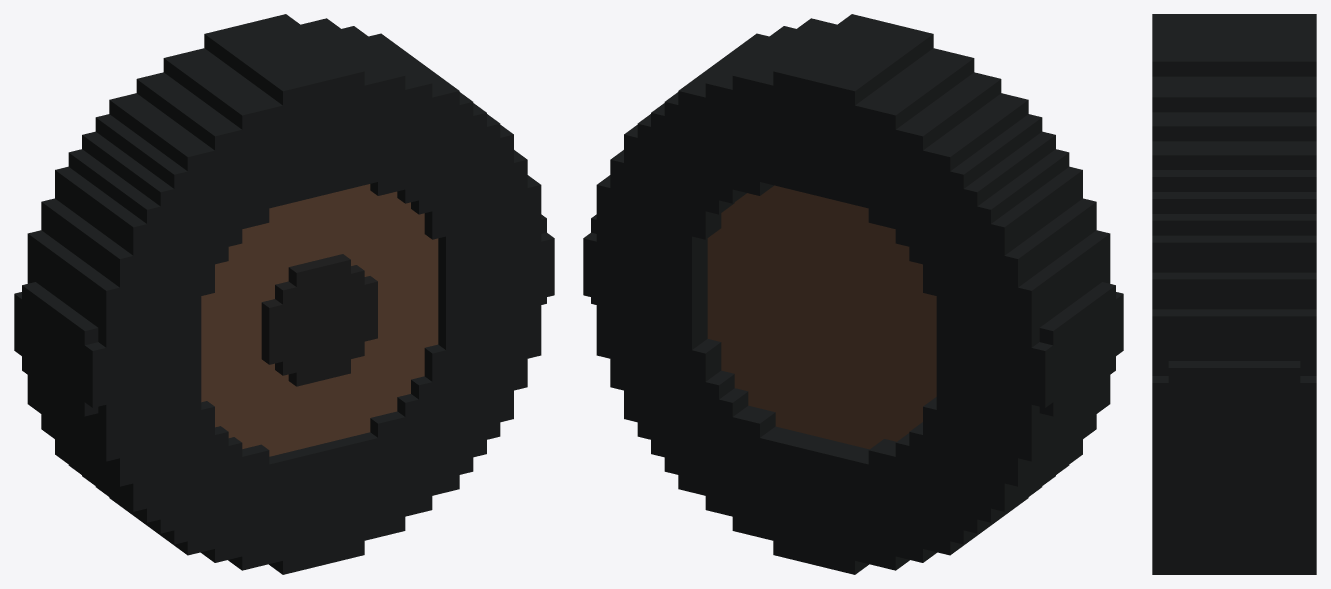
The model's file is jackknifed_lorry_cab_jammed_wheel.glb.
3 views of the same model, side by side, from view 1: azimuth 30°, elevation 25°; view 2: azimuth 150°, elevation 25°; view 3: azimuth 270°, elevation 25° (orthographic). The views are drawn at different scales.
Visible parts, largest first — view 1: body:compound; view 2: body:compound; view 3: body:compound.
Part boxes in pixels (x1,y1,x2,y2): body:compound: (14, 14, 554, 574); body:compound: (583, 14, 1123, 574); body:compound: (1152, 14, 1316, 574).
Size of the model in its own units: 1.06 by 1.06 by 0.3125.
